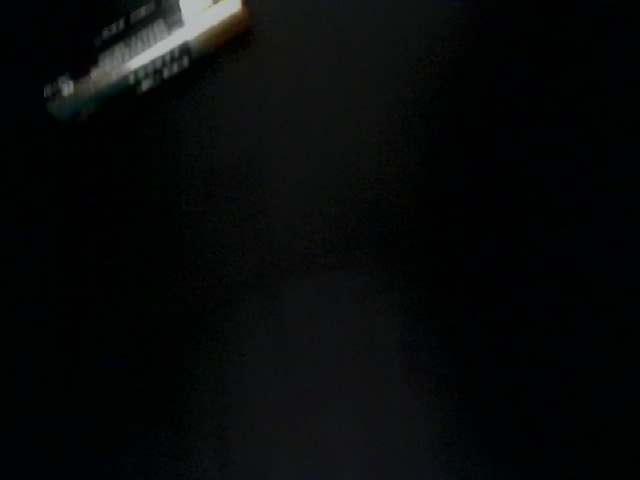QTLJ: (513, 109, 640, 309)
